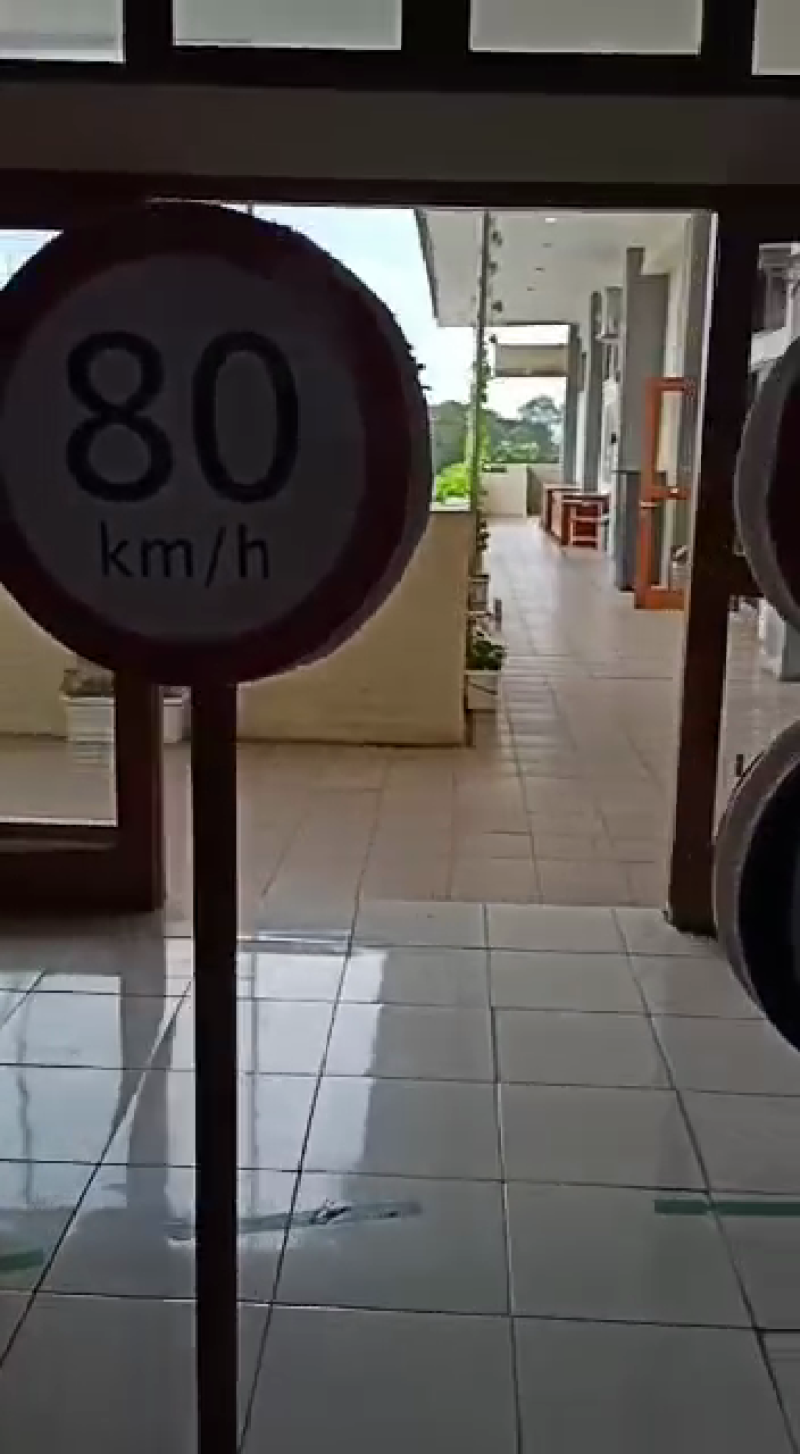batas maksimal 80kmperjam: (1, 208, 436, 692)
